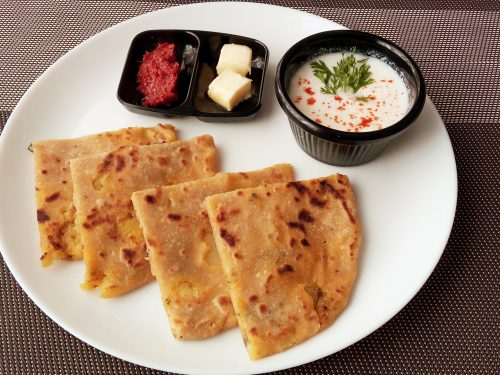aloo_paratha: (31, 123, 364, 360)
